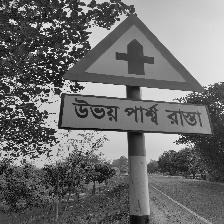Crossroad: (49, 7, 224, 148)
